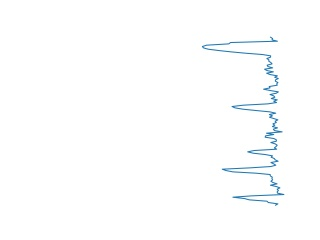distalBar: (198, 35, 282, 87)
interdistributaryEstuary: (229, 86, 283, 142)
underwaterNaturalLevee: (219, 142, 288, 207)
